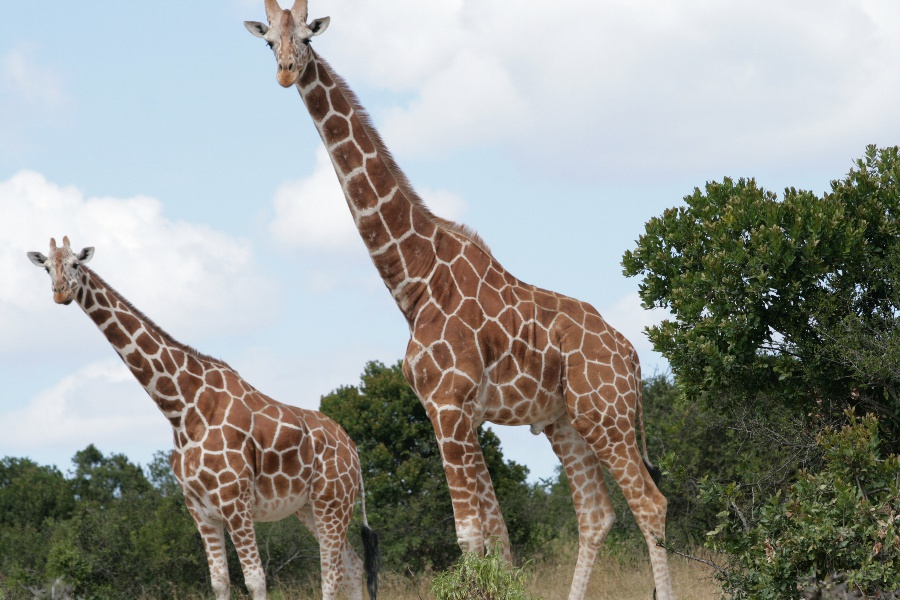giraffe: (236, 0, 695, 598), (19, 228, 384, 595)
